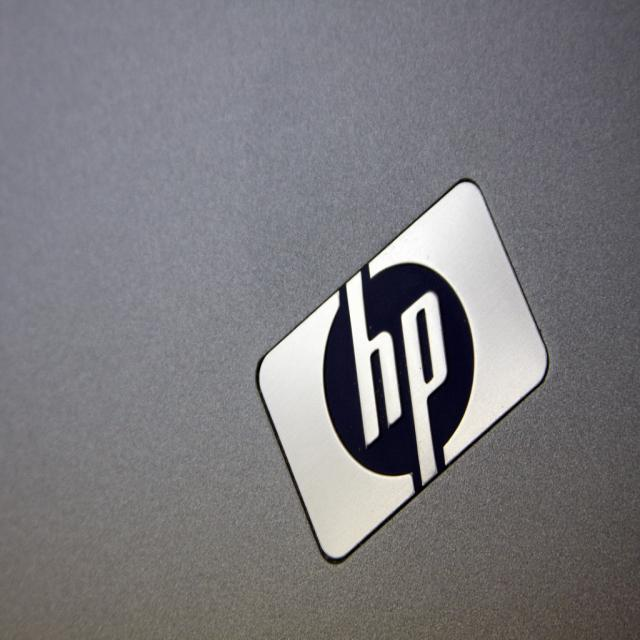HP: (244, 158, 564, 581)
